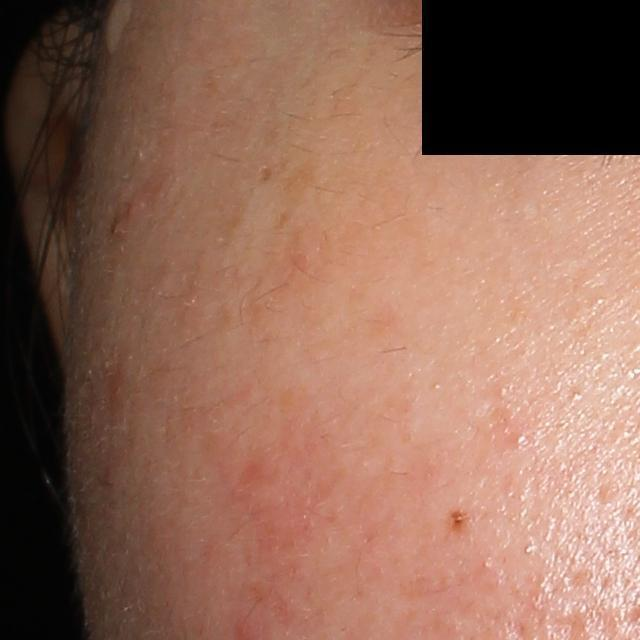comedo: (504, 431, 530, 448)
nevus: (447, 507, 471, 534)
